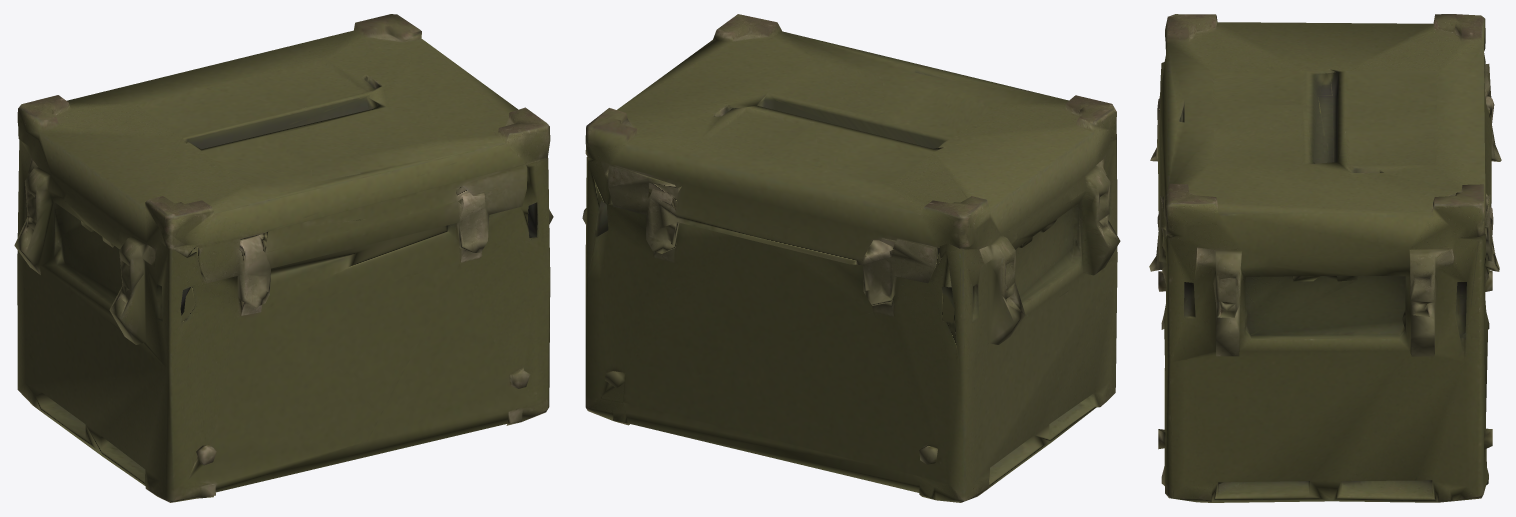
File: ammo_crate.glb
3 views of the same model, side by side, from view 1: azimuth 30°, elevation 25°; view 2: azimuth 150°, elevation 25°; view 3: azimuth 270°, elevation 25° (orthographic). The views are drawn at different scales.
Bounding box in the file's own units: 1.9 × 1.22 × 1.3.
Materials: 1 (1 with a texture image).
